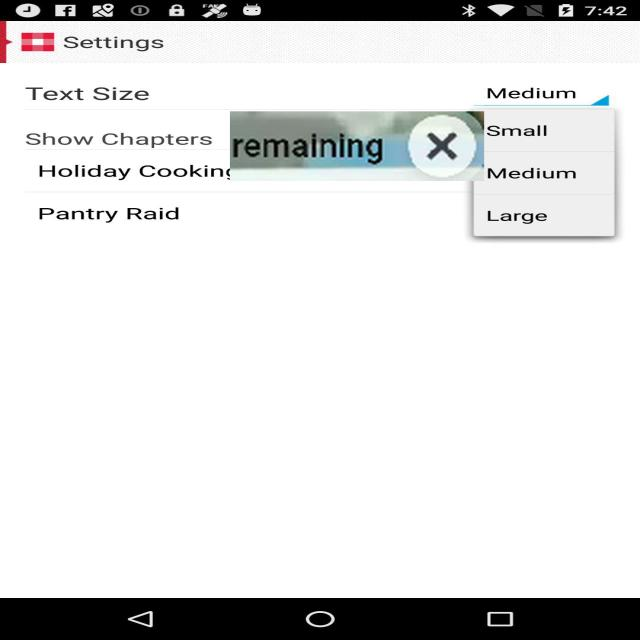misdirection: (230, 111, 484, 181)
